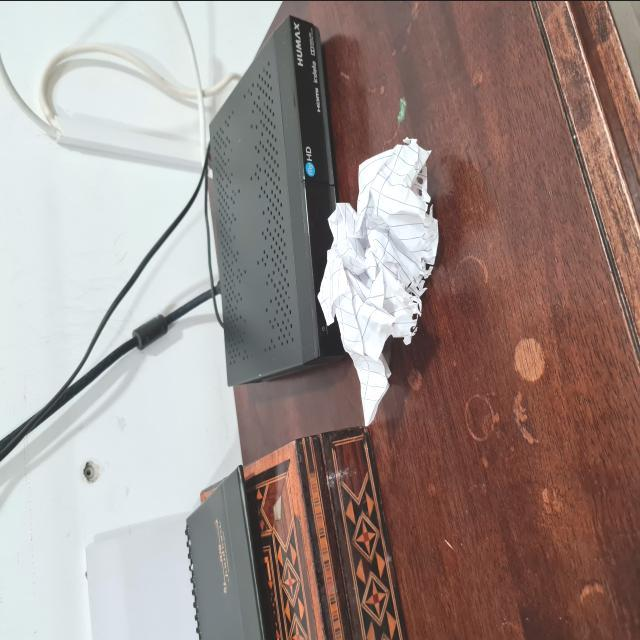Paper: (321, 138, 450, 431)
